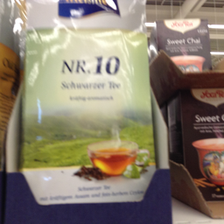tea: (23, 1, 156, 202), (167, 89, 224, 202), (157, 17, 213, 73)
